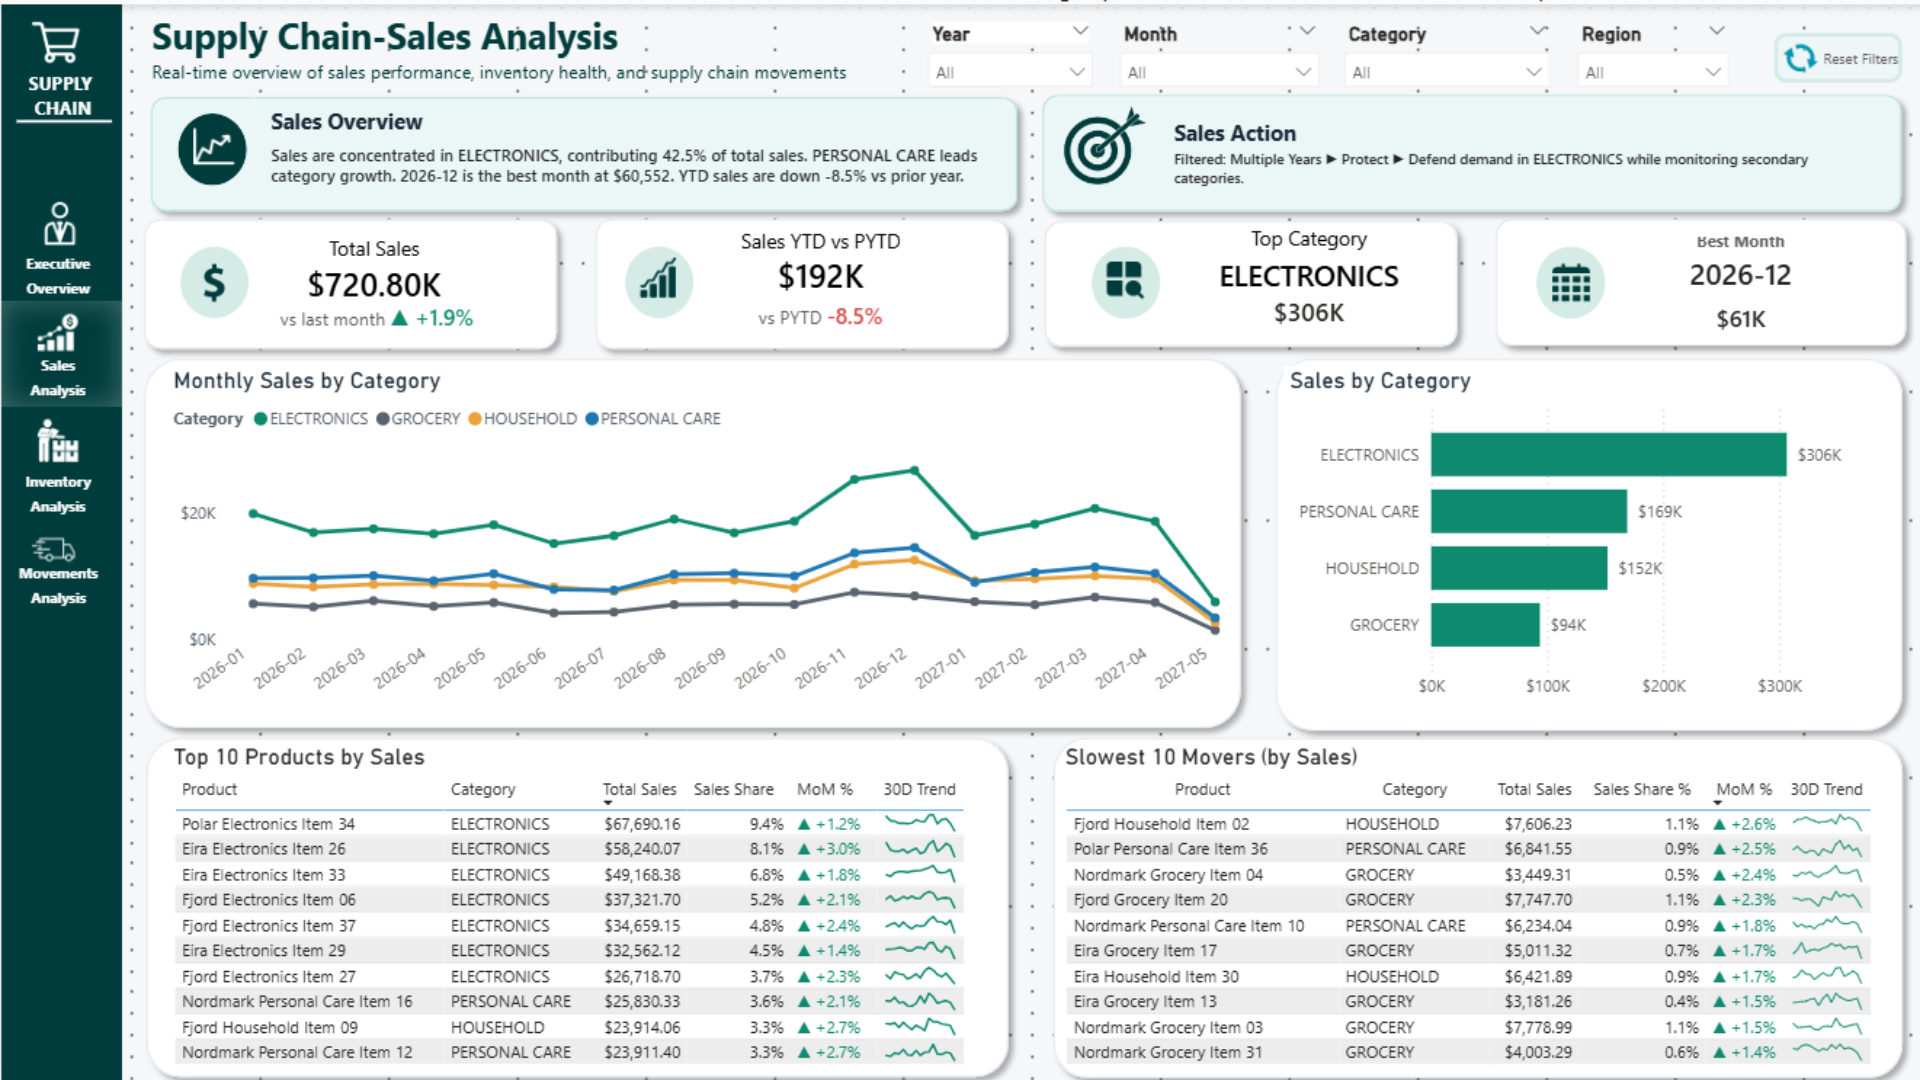

The page's visual inventory and layout, read from the dashboard file:
{"tool":"powerbi","page":{"name":"Sales Analysis","canvas":[1440,810],"ordinal":1},"visuals":[{"type":"textbox","box":[107.5,0,573.8,87.5],"z":0},{"type":"shape","box":[0,0,90,810.3],"z":1000},{"type":"slicer","fields":{"Values":["dim_date.Year"]},"box":[681.2,8.8,142.8,75],"z":1000,"group":"g1"},{"type":"group","id":"g1","title":"Group 1","box":[681.2,8.8,617.5,75],"z":2000},{"type":"slicer","fields":{"Values":["dim_date.Date.Variation.Date Hierarchy.Month"]},"box":[824,8.8,168.8,75],"z":2000,"group":"g1"},{"type":"slicer","fields":{"Values":["dim_location.Region"]},"box":[1165.7,9.1,132.7,75.3],"z":3000,"group":"g1"},{"type":"textbox","box":[12.2,43.3,62.2,56.7],"z":3000},{"type":"image","box":[22.2,8.9,35.6,41.1],"z":4000},{"type":"slicer","fields":{"Values":["dim_product.Category"]},"box":[992.5,9.1,173.1,75.3],"z":4000,"group":"g1"},{"type":"actionButton","box":[1323.3,21.7,95.8,37.5],"z":5000},{"type":"image","box":[28,130.5,32,67],"z":6000,"group":"g2"},{"type":"shape","box":[98,151.2,326,115],"z":6000},{"type":"shape","box":[97.5,255,836.2,293.8],"z":7000},{"type":"textbox","box":[4,177.5,78,46],"z":8000,"group":"g2"},{"type":"shape","box":[775.5,538.2,651.8,271.8],"z":8000},{"type":"shape","box":[941.4,255.7,485.7,295.7],"z":9000},{"type":"image","box":[26,289.5,32,72],"z":10000,"group":"g2"},{"type":"shape","box":[100,538.8,661.2,271.2],"z":10000},{"type":"shape","box":[11.1,66.7,71.1,41.1],"z":11000},{"type":"shape","box":[102.5,60.6,664.7,103],"z":12000,"group":"g3"},{"type":"group","id":"g2","title":"Group 4","box":[0,130.5,84.8,334.6],"z":12000},{"type":"textbox","box":[4,254.5,78,57],"z":12000,"group":"g2"},{"type":"shape","box":[132.5,85,51.2,52.5],"z":13000},{"type":"group","id":"g3","title":"Group 2","box":[102.5,58.8,1325,105],"z":14000},{"type":"image","box":[26,200.5,32,89],"z":14000,"group":"g2"},{"type":"shape","box":[768.5,58.8,659,105],"z":15000,"group":"g3"},{"type":"shape","box":[434,151.2,326,115],"z":15000},{"type":"shape","box":[1106,151.2,324,112.5],"z":16000},{"type":"textbox","box":[4,340.5,78,56],"z":16000,"group":"g2"},{"type":"cardVisual","fields":{"Data":["_Measures.Sales Action"]},"box":[850.8,66.7,564.2,88],"z":17000,"group":"g3"},{"type":"cardVisual","title":"Total Sales","fields":{"Data":["_Measures.Total Sales"]},"box":[186.7,154.4,182.2,111.1],"z":17000},{"type":"shape","box":[770,152.9,326,111.4],"z":18000},{"type":"image","box":[22,362.5,32,88],"z":18000,"group":"g2"},{"type":"shape","box":[134.1,181.2,51.2,53.8],"z":19000},{"type":"cardVisual","title":"Total Sales","fields":{"Data":["_Measures.Top Category"]},"box":[874.4,156.7,204.4,98.9],"z":20000},{"type":"textbox","box":[0,409.5,85,56],"z":20000,"group":"g2"},{"type":"shape","box":[1145,180,51.7,54.2],"z":21000},{"type":"shape","box":[465.7,180,51.2,53.8],"z":22000,"group":"g4"},{"type":"shape","box":[812.9,180,51.4,54.3],"z":22000},{"type":"shape","box":[132.5,81.2,51.2,53.8],"z":23000},{"type":"image","box":[1330,1.7,25.8,77.5],"z":24000},{"type":"image","box":[755,63.8,137.5,88.8],"z":25000},{"type":"image","box":[145.5,157.3,28.2,100],"z":26000},{"type":"image","box":[142.7,66.4,30.9,79.1],"z":27000},{"type":"group","id":"g4","title":"Group 5","box":[465.7,180,50,52.9],"z":28000},{"type":"cardVisual","title":"Total Sales","fields":{"Data":["_Measures.Sales YTD"]},"box":[491.1,134.4,240,142.2],"z":29000},{"type":"cardVisual","fields":{"Data":["_Measures.Best Month"]},"box":[1211.4,155.7,172.9,108.6],"z":30000},{"type":"cardVisual","fields":{"Data":["_Measures.Sales Narrative v2"]},"box":[186.7,60.6,562.9,89.2],"z":31000,"group":"g3"},{"type":"lineChart","title":"Monthly Sales by Category","fields":{"Category":["dim_date.Year-Month"],"Y":["_Measures.Total Sales"],"Series":["dim_product.Category"]},"box":[123.6,270.9,804.8,263],"z":31000},{"type":"clusteredBarChart","title":"Sales by Category","fields":{"Category":["dim_product.Category"],"Y":["_Measures.Total Sales"]},"box":[957.3,270.9,450.9,256.4],"z":32000},{"type":"tableEx","title":"Slowest 10 Movers (by Sales)","fields":{"Values":["dim_product.ProductName","dim_product.Category","_Measures.Total Sales","_Measures.Product Sales Share %","_Measures.Sales MoM (with arrow)","SparklineData(_Measures.Total Sales_[dim_date.Year-Month])"]},"box":[788.5,551.2,619.1,245.9],"z":33000},{"type":"tableEx","title":"Top 10 Products by Sales","fields":{"Values":["dim_product.ProductName","dim_product.Category","_Measures.Total Sales","_Measures.Product Sales Share %","_Measures.Sales MoM (with arrow)","SparklineData(_Measures.Total Sales_[dim_date.Year-Month])"]},"box":[124,551.2,652.6,258.9],"z":34000},{"type":"image","box":[474.6,182.3,30.2,43.1],"z":35000},{"type":"image","box":[825.2,178,28,57.2],"z":36000},{"type":"image","box":[1145.5,193.1,51.8,28],"z":37000},{"type":"actionButton","box":[0,221,90,79],"z":38000},{"type":"actionButton","box":[0,142,90,79],"z":38001},{"type":"actionButton","box":[0,299,90,79],"z":38002},{"type":"actionButton","box":[0,377,90,79],"z":38003}]}

Visuals, with their boxes on the page's 1440x810 design canvas (x1, y1, x2, y2). These are canvas units, not pixel positions in the 1920x1080 screenshot, which may show the page scaled, cropped or inside an application window:
textbox: region(108, 0, 681, 88)
shape: region(0, 0, 90, 810)
slicer - dim_date.Year: region(681, 9, 824, 84)
"Group 1" group: region(681, 9, 1299, 84)
slicer - dim_date.Date.Variation.Date Hierarchy.Month: region(824, 9, 993, 84)
slicer - dim_location.Region: region(1166, 9, 1298, 84)
textbox: region(12, 43, 74, 100)
image: region(22, 9, 58, 50)
slicer - dim_product.Category: region(992, 9, 1166, 84)
actionButton: region(1323, 22, 1419, 59)
image: region(28, 130, 60, 198)
shape: region(98, 151, 424, 266)
shape: region(98, 255, 934, 549)
textbox: region(4, 178, 82, 224)
shape: region(776, 538, 1427, 810)
shape: region(941, 256, 1427, 551)
image: region(26, 290, 58, 362)
shape: region(100, 539, 761, 810)
shape: region(11, 67, 82, 108)
shape: region(102, 61, 767, 164)
"Group 4" group: region(0, 130, 85, 465)
textbox: region(4, 254, 82, 312)
shape: region(132, 85, 184, 138)
"Group 2" group: region(102, 59, 1428, 164)
image: region(26, 200, 58, 290)
shape: region(768, 59, 1428, 164)
shape: region(434, 151, 760, 266)
shape: region(1106, 151, 1430, 264)
textbox: region(4, 340, 82, 396)
cardVisual - _Measures.Sales Action: region(851, 67, 1415, 155)
"Total Sales" cardVisual: region(187, 154, 369, 266)
shape: region(770, 153, 1096, 264)
image: region(22, 362, 54, 450)
shape: region(134, 181, 185, 235)
"Total Sales" cardVisual: region(874, 157, 1079, 256)
textbox: region(0, 410, 85, 466)
shape: region(1145, 180, 1197, 234)
shape: region(466, 180, 517, 234)
shape: region(813, 180, 864, 234)
shape: region(132, 81, 184, 135)
image: region(1330, 2, 1356, 79)
image: region(755, 64, 892, 153)
image: region(146, 157, 174, 257)
image: region(143, 66, 174, 146)
"Group 5" group: region(466, 180, 516, 233)
"Total Sales" cardVisual: region(491, 134, 731, 277)
cardVisual - _Measures.Best Month: region(1211, 156, 1384, 264)
cardVisual - _Measures.Sales Narrative v2: region(187, 61, 750, 150)
"Monthly Sales by Category" lineChart: region(124, 271, 928, 534)
"Sales by Category" clusteredBarChart: region(957, 271, 1408, 527)
"Slowest 10 Movers (by Sales)" tableEx: region(788, 551, 1408, 797)
"Top 10 Products by Sales" tableEx: region(124, 551, 777, 810)
image: region(475, 182, 505, 225)
image: region(825, 178, 853, 235)
image: region(1146, 193, 1197, 221)
actionButton: region(0, 221, 90, 300)
actionButton: region(0, 142, 90, 221)
actionButton: region(0, 299, 90, 378)
actionButton: region(0, 377, 90, 456)
